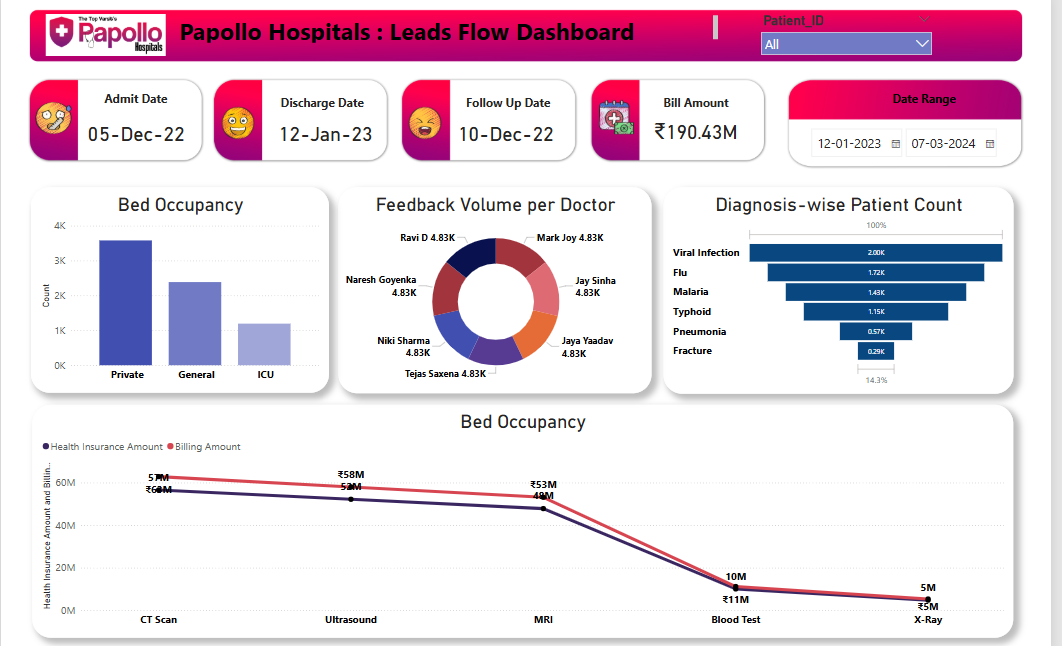

The page's visual inventory and layout, read from the dashboard file:
{"tool":"powerbi","page":{"name":"Page 2","canvas":[1680,1050],"ordinal":0},"visuals":[{"type":"textbox","box":[280,26.7,872,53.5],"z":0},{"type":"image","box":[2636.7,100,623.3,150],"z":1000},{"type":"slicer","fields":{"Values":["Sheet1.Patient_ID"]},"box":[2400,373.3,793.3,420],"z":2000},{"type":"card","fields":{"Values":["Sheet1.Admit_Date"]},"box":[437.6,198.8,162.9,42.8],"z":3000},{"type":"card","fields":{"Values":["Sheet1.Discharge_Date"]},"box":[129.8,198.8,172.6,42.8],"z":4000},{"type":"card","fields":{"Values":["Sheet1.Followup Date"]},"box":[724.3,198.6,167.1,42.9],"z":5000},{"type":"textbox","box":[152.9,145.7,127.1,57.1],"z":6000},{"type":"textbox","box":[437.1,151.4,151.4,37.1],"z":7000},{"type":"textbox","box":[732.9,151.4,158.6,37.1],"z":8000},{"type":"textbox","box":[1035.7,151.4,151.4,37.1],"z":9000},{"type":"card","fields":{"Values":["Sheet1.Billing Amount"]},"box":[1031.4,194.3,158.6,42.9],"z":10000},{"type":"image","box":[50,157.1,68.6,74.3],"z":11000},{"type":"image","box":[348.6,172.9,62.9,62.9],"z":12000},{"type":"image","box":[640,171.4,77.1,62.9],"z":13000},{"type":"image","box":[951.4,158.6,65.7,71.4],"z":14000},{"type":"columnChart","title":"Bed Occupancy","fields":{"Category":["Sheet1.Bed_Occupancy"],"Y":["Sheet1.Bed_Occupancy"]},"box":[47.1,305.7,477.1,328.6],"z":15000},{"type":"donutChart","title":"Feedback Volume per Doctor","fields":{"Category":["Sheet1.Doctor"],"Y":["Sheet1.Feedback"]},"box":[540.2,305.2,501,329.5],"z":16000},{"type":"funnel","title":"Diagnosis-wise Patient Count","fields":{"Category":["Sheet1.Diagnosis"],"Y":["Sheet1.Diagnosis"]},"box":[1060,305.7,560,330],"z":17000},{"type":"image","box":[30.3,25,274.6,76.7],"z":18000},{"type":"lineChart","title":"Bed Occupancy","fields":{"Y":["Sheet1.Health Insurance Amount","Sheet1.Billing Amount"],"Category":["Sheet1.Test"]},"box":[49.9,654.5,1569.3,372.7],"z":19000},{"type":"slicer","fields":{"Values":["Sheet1.Admit_Date"]},"box":[1284.3,201.2,360.6,68.9],"z":20000},{"type":"slicer","fields":{"Values":["Sheet1.Patient_ID"]},"box":[1206.7,21.7,293.3,81.7],"z":21000},{"type":"textbox","box":[1366,146.2,221.1,37.4],"z":22000}]}

Visuals, with their boxes in screenshot pixels (x1, y1, x2, y2), scaled from the page's 1680x1050 canvas onto the 1062x646 screenshot:
textbox: bbox(177, 16, 728, 49)
card - Sheet1.Admit_Date: bbox(277, 122, 380, 149)
card - Sheet1.Discharge_Date: bbox(82, 122, 191, 149)
card - Sheet1.Followup Date: bbox(458, 122, 563, 149)
textbox: bbox(97, 90, 177, 125)
textbox: bbox(276, 93, 372, 116)
textbox: bbox(463, 93, 564, 116)
textbox: bbox(655, 93, 750, 116)
card - Sheet1.Billing Amount: bbox(652, 120, 752, 146)
image: bbox(32, 97, 75, 142)
image: bbox(220, 106, 260, 145)
image: bbox(405, 105, 453, 144)
image: bbox(601, 98, 643, 142)
"Bed Occupancy" columnChart: bbox(30, 188, 331, 390)
"Feedback Volume per Doctor" donutChart: bbox(341, 188, 658, 390)
"Diagnosis-wise Patient Count" funnel: bbox(670, 188, 1024, 391)
image: bbox(19, 15, 193, 63)
"Bed Occupancy" lineChart: bbox(32, 403, 1024, 632)
slicer - Sheet1.Admit_Date: bbox(812, 124, 1040, 166)
slicer - Sheet1.Patient_ID: bbox(763, 13, 948, 64)
textbox: bbox(864, 90, 1003, 113)
